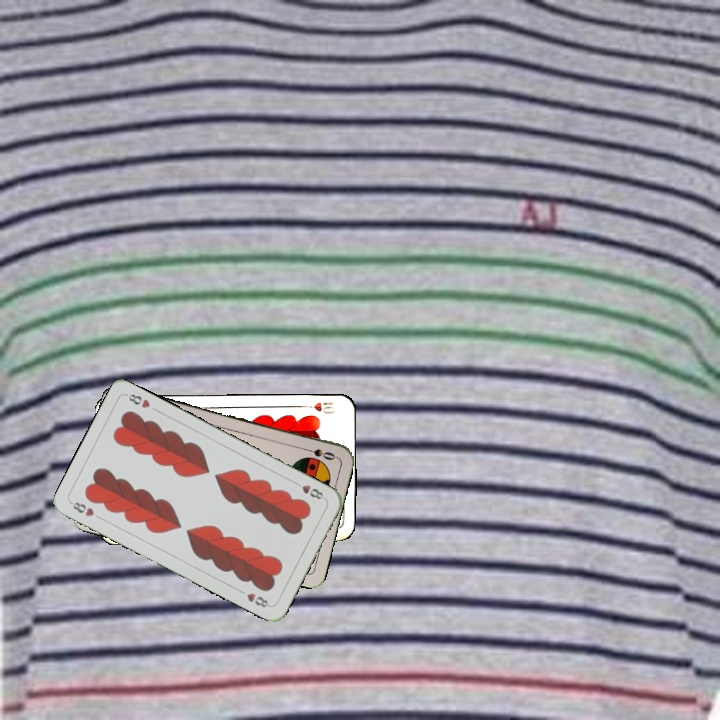H10: (298, 398, 337, 416)
H8: (290, 478, 328, 502), (67, 498, 97, 519)
SO: (299, 444, 339, 463)
